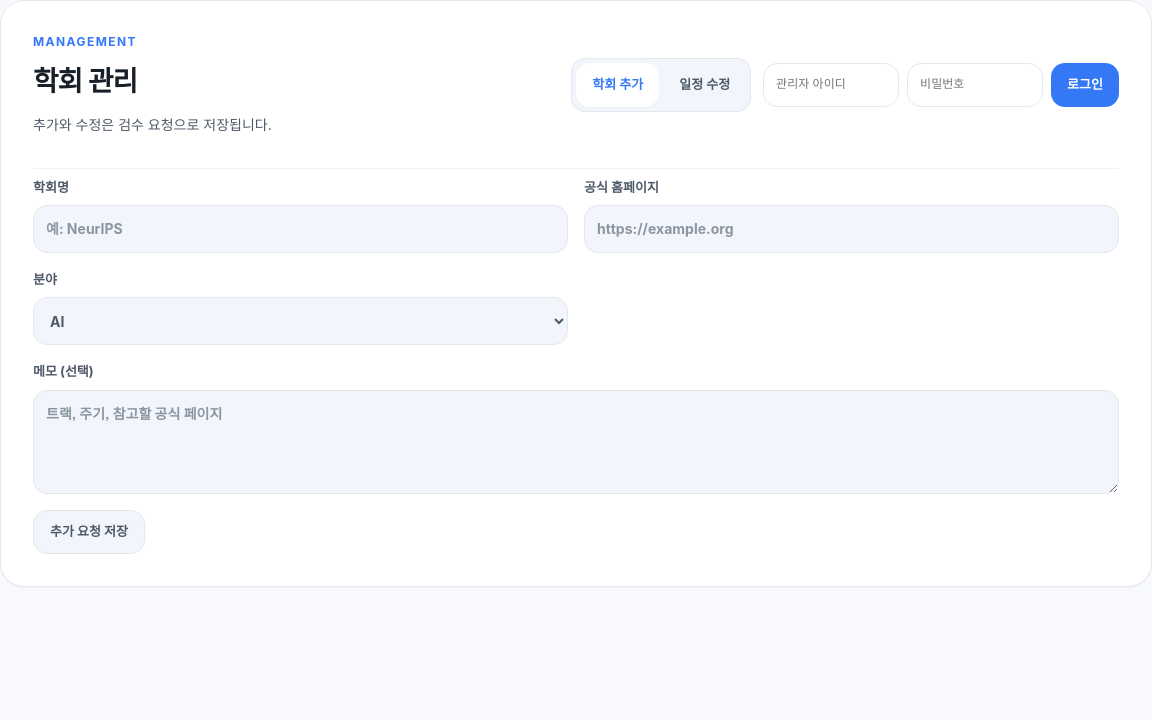
Test case: a late-loaded catalog selects its first edition for schedule override
Click the button "일정 수정" at (705, 84), box [663,62,746,106]
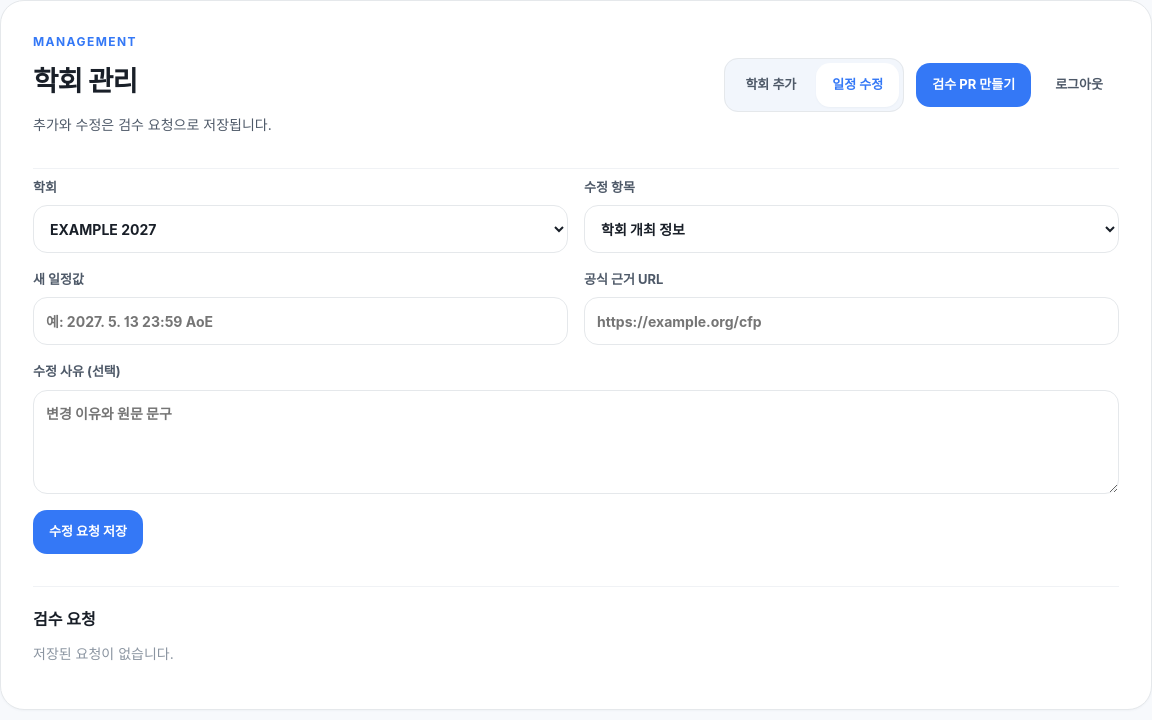
Expected: the dropdown labelled "학회" shows "EXAMPLE 2027", [33,205,568,253]
